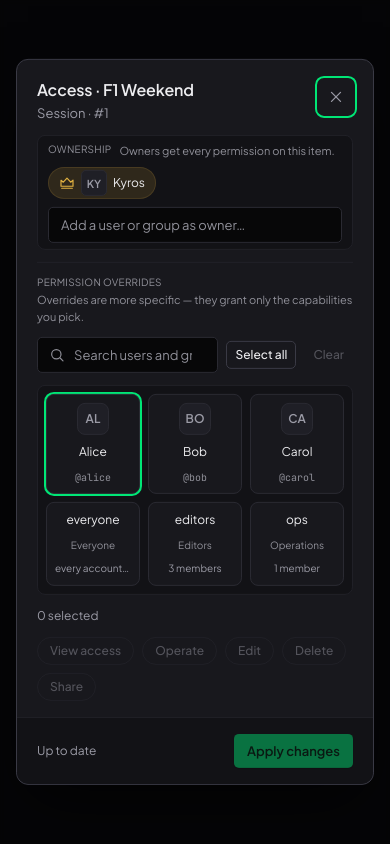
AccessPanel › selects every shown card and clears the selection
The width and height of the screenshot is (390, 844).
Expected: the dropdown labelled "Search users and groups" is shown, left=37, top=337, right=218, bottom=373
Click the button "Select all". click: (261, 355)
box: left=226, top=341, right=296, bottom=369
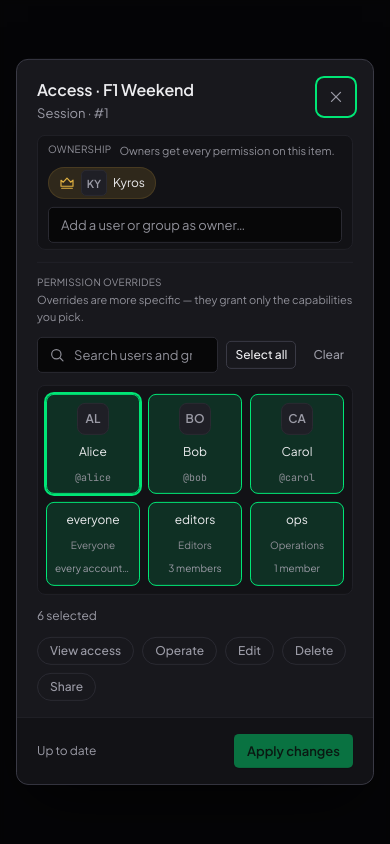
Expected: the number of options is 6, left=46, top=394, right=140, bottom=494; left=148, top=394, right=242, bottom=494; left=250, top=394, right=344, bottom=494; left=46, top=502, right=140, bottom=586; left=148, top=502, right=242, bottom=586; left=250, top=502, right=344, bottom=586
Click the button "Clear". click: (329, 355)
box: left=304, top=341, right=353, bottom=369
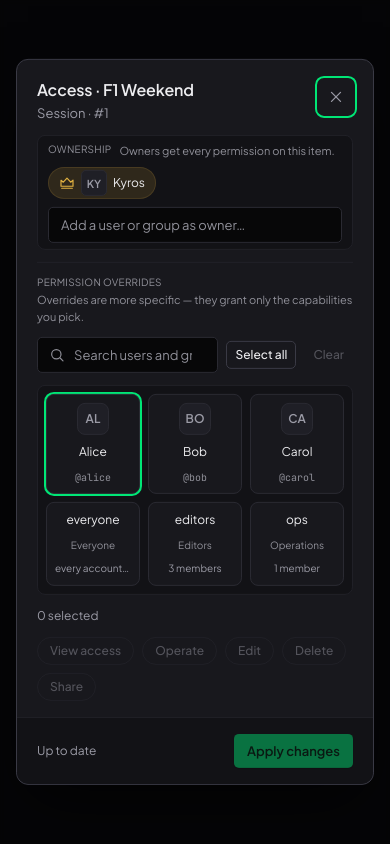
Now the button "Operate" is disabled, box left=142, top=637, right=217, bottom=665
